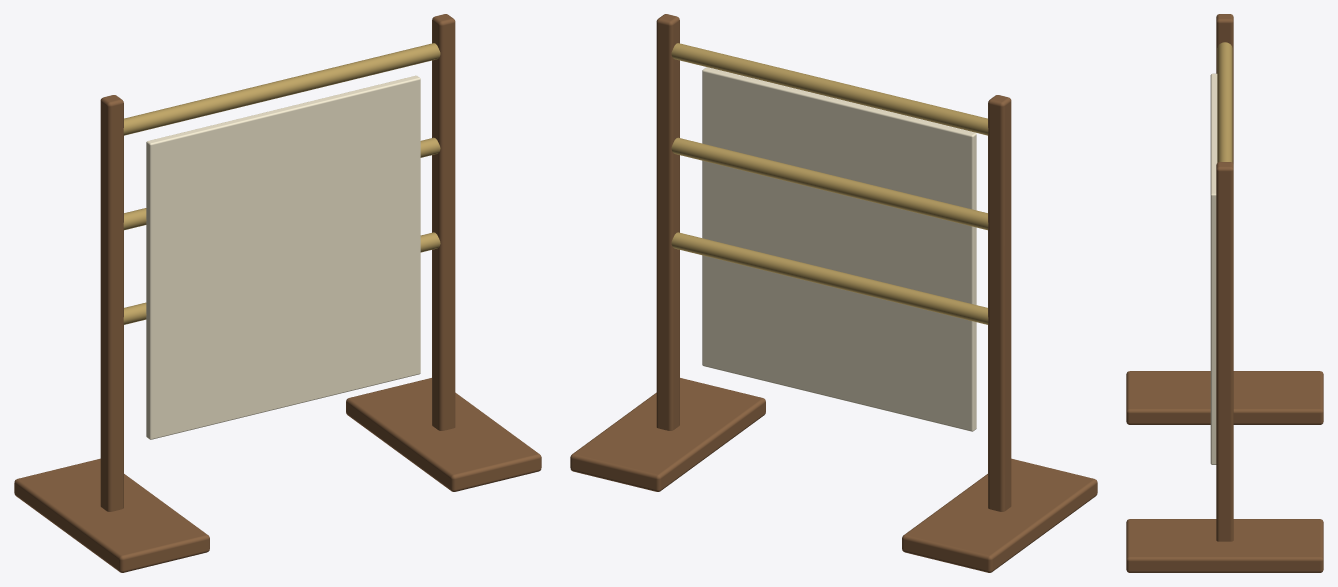
File: fantasy-cartographers-map-printing-guild-felt-blanket--7ae4f7dd__32244.glb
3 views of the same model, side by side, from view 1: azimuth 30°, elevation 25°; view 2: azimuth 150°, elevation 25°; view 3: azimuth 270°, elevation 25° (orthographic). The views are drawn at different scales.
Visible parts, largest first — view 1: felt-blanket-rack; view 2: felt-blanket-rack; view 3: felt-blanket-rack.
Boxes of the visible parts, x1,y1,x2,y2 form: felt-blanket-rack: (14, 14, 541, 572); felt-blanket-rack: (570, 14, 1097, 572); felt-blanket-rack: (1126, 14, 1323, 572).
Bounding box in the file's own units: 1.4 × 1.35 × 0.6199.
